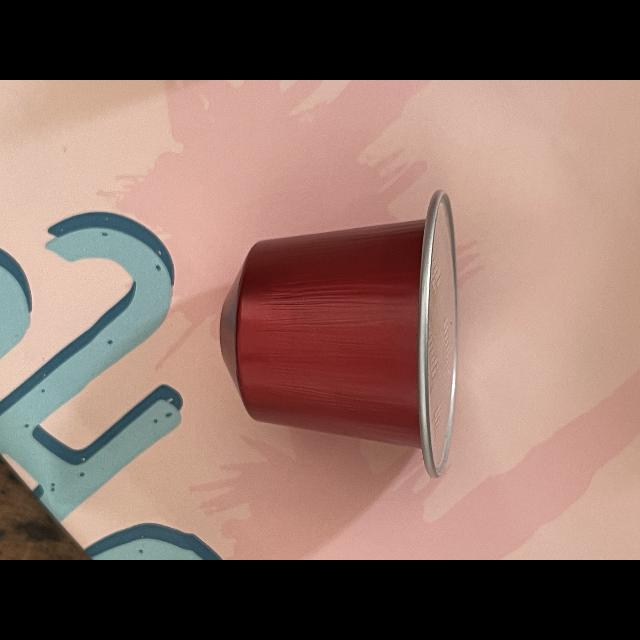intact_capsule: (206, 180, 498, 490)
